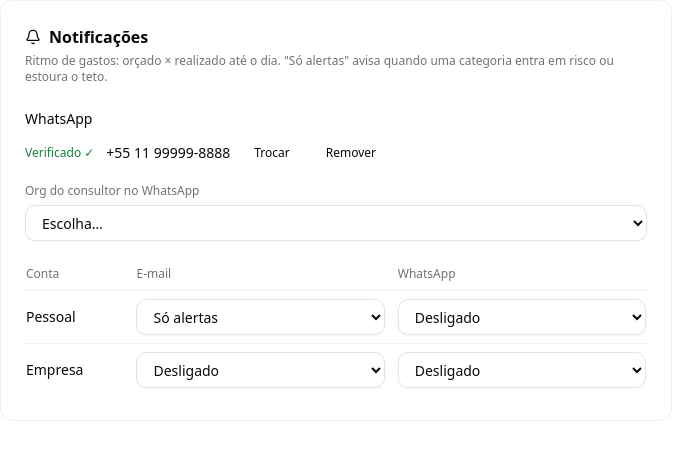
Test case: NotificationsSection › espera pela mensagem (fake timers) › trocar: o número antigo já verificado não conta como conexão nova
Click the button "Trocar".
click(272, 153)  # box [242,137,302,169]
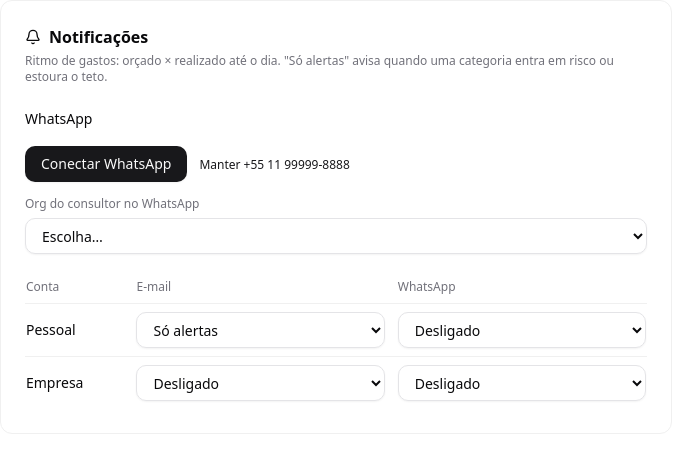
Click the button "Conectar WhatsApp".
click(106, 164)  # box [25,146,187,182]
Wait 12000 ms
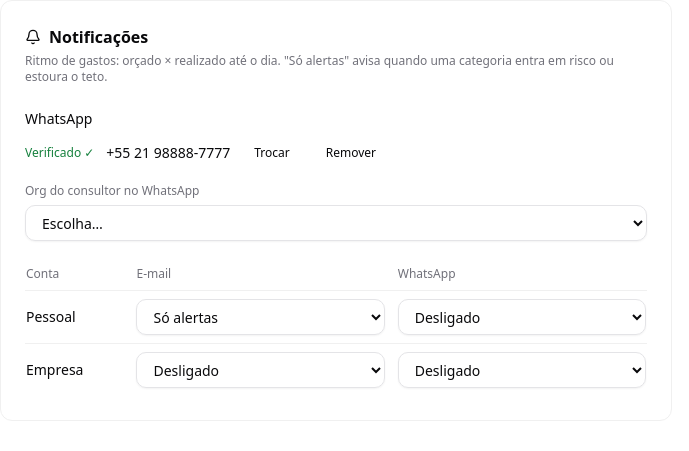
expect the text "+55 21 98888-7777" is shown: met, box [106,143,230,163]
